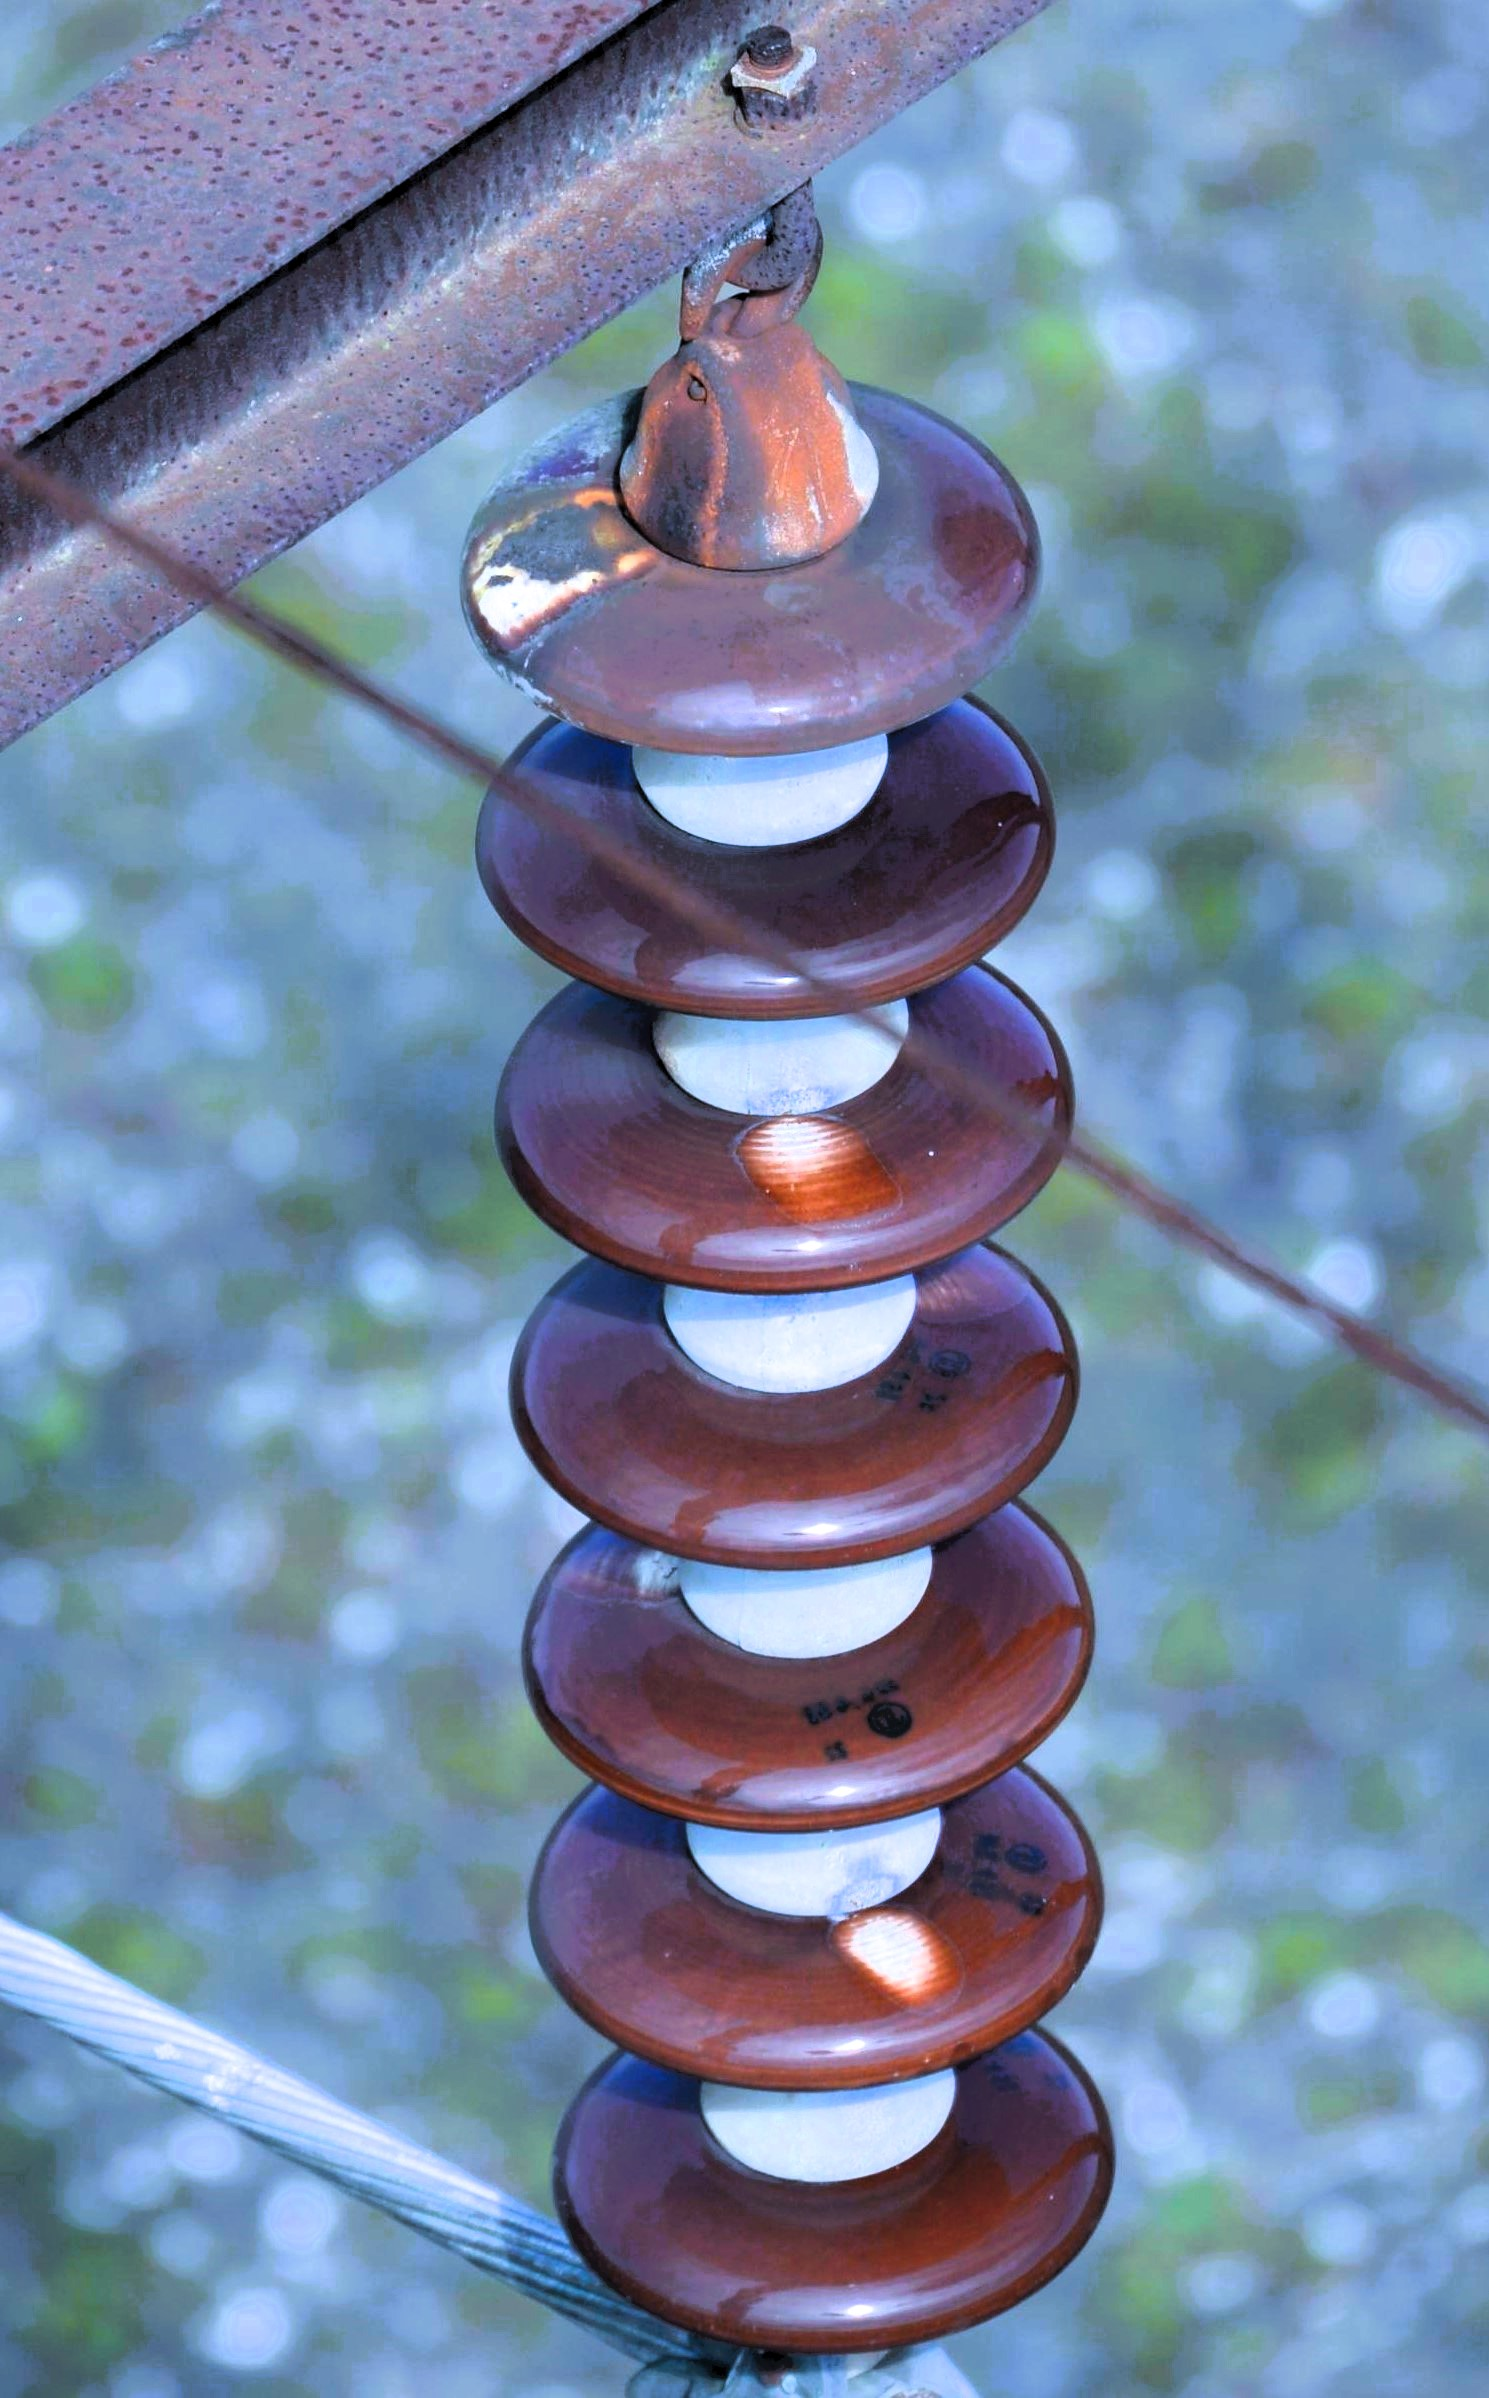Insulator flashover: (443, 353, 1055, 774), (472, 947, 1093, 1300), (509, 1767, 1115, 2094)
